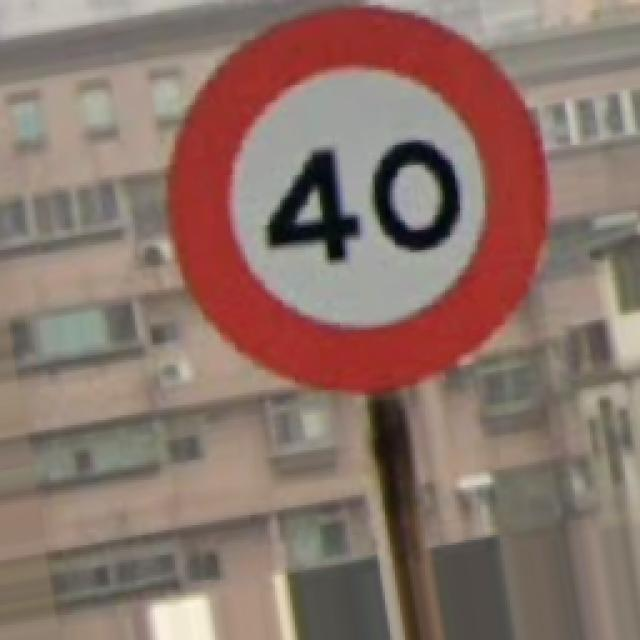Speed Limit -40-: (170, 10, 545, 388)
